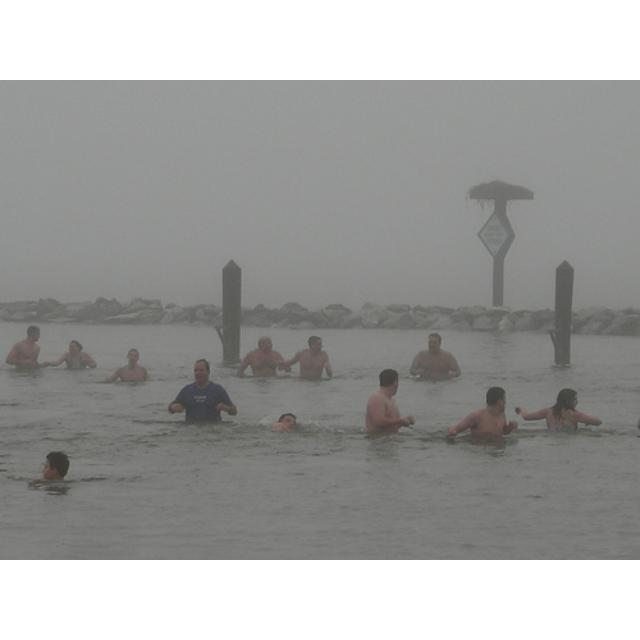human: (171, 353, 241, 429), (458, 380, 524, 446), (370, 369, 421, 439), (518, 388, 601, 428), (414, 334, 467, 383), (288, 336, 336, 382), (242, 336, 289, 380), (10, 326, 49, 373), (106, 347, 149, 387), (51, 338, 97, 371), (41, 449, 74, 482), (275, 410, 300, 433)
